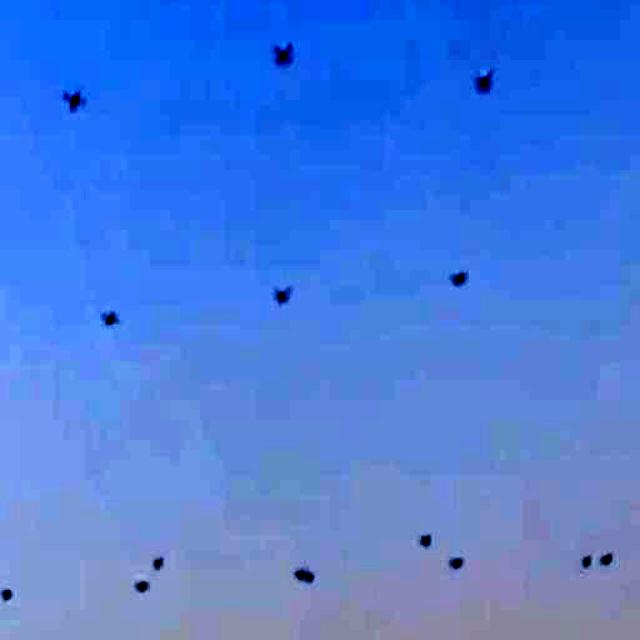bird: (438, 228, 481, 321), (56, 56, 94, 142), (264, 24, 310, 90), (474, 45, 515, 109), (91, 294, 142, 345), (268, 279, 308, 341)
